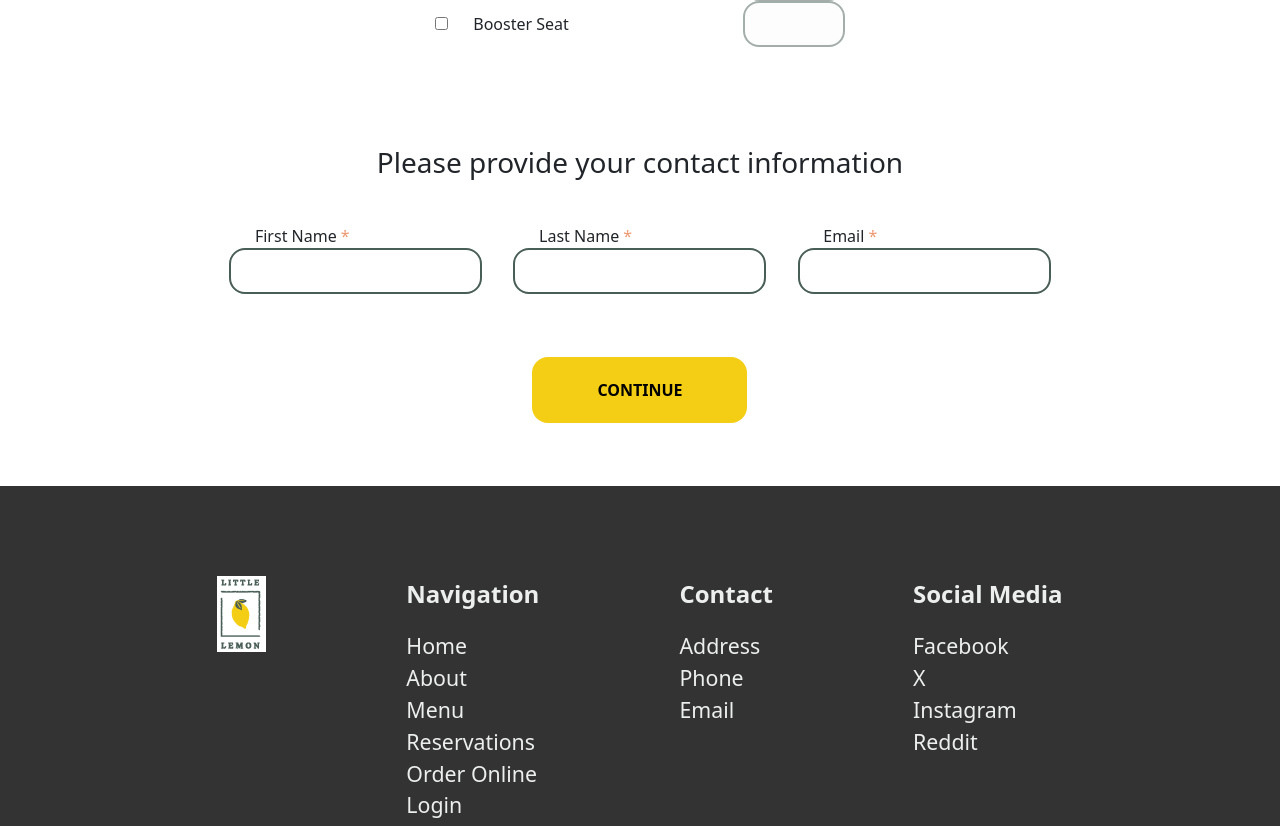
Test: displays notice to enter time slot when absent
The width and height of the screenshot is (1280, 826).
(page scrolled)
Click the button "CONTINUE". click: click(640, 390)
box: [532, 357, 748, 423]
(page scrolled)
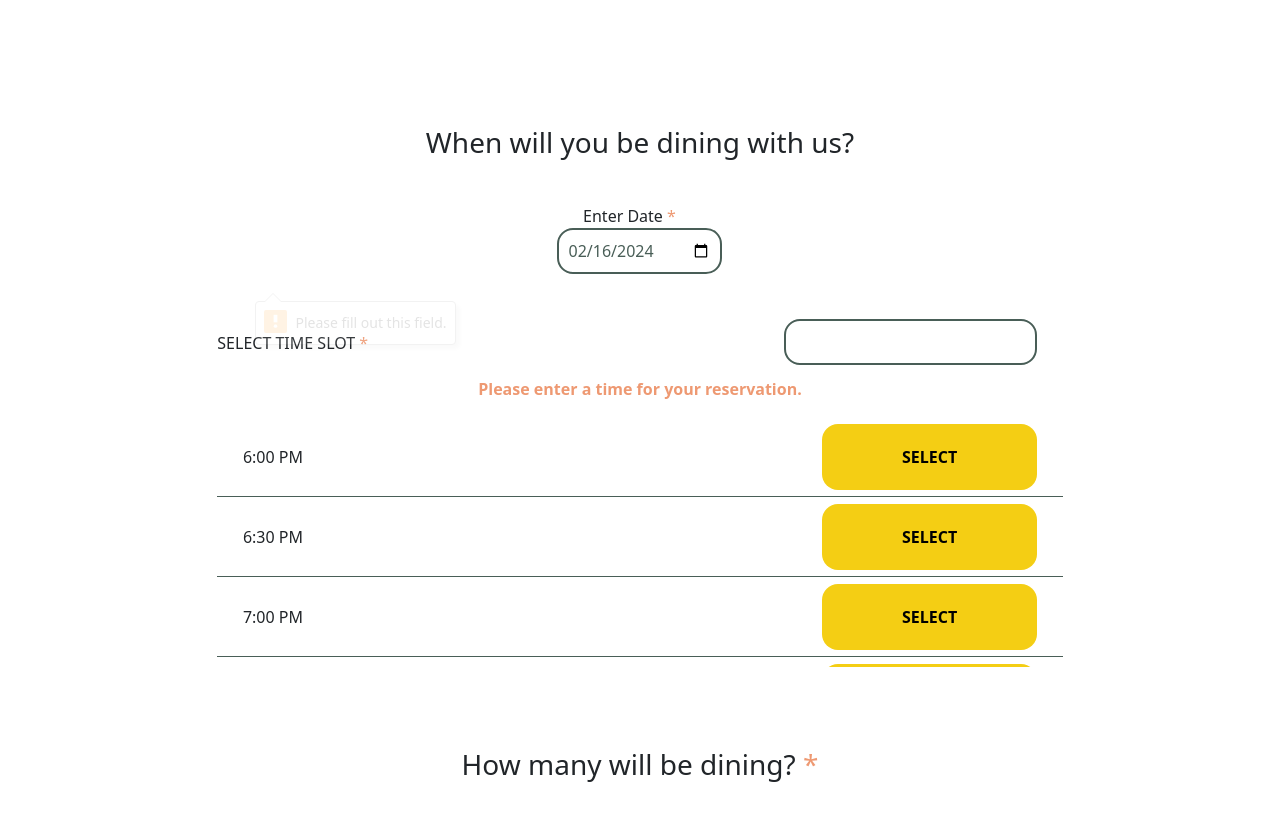
Expected: the text "Please enter a time for your reservation." is shown, [478, 378, 802, 400]
